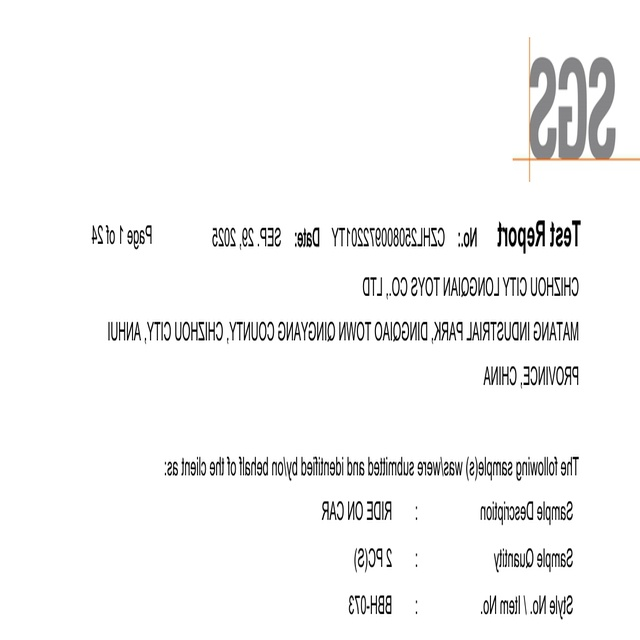sgs: (531, 56, 615, 159)
